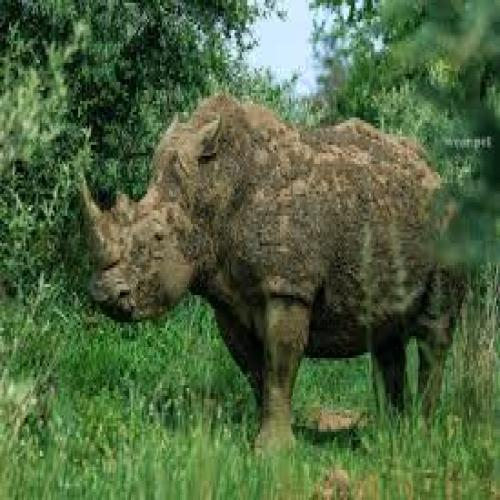rhino-endangered: (71, 89, 468, 446)
